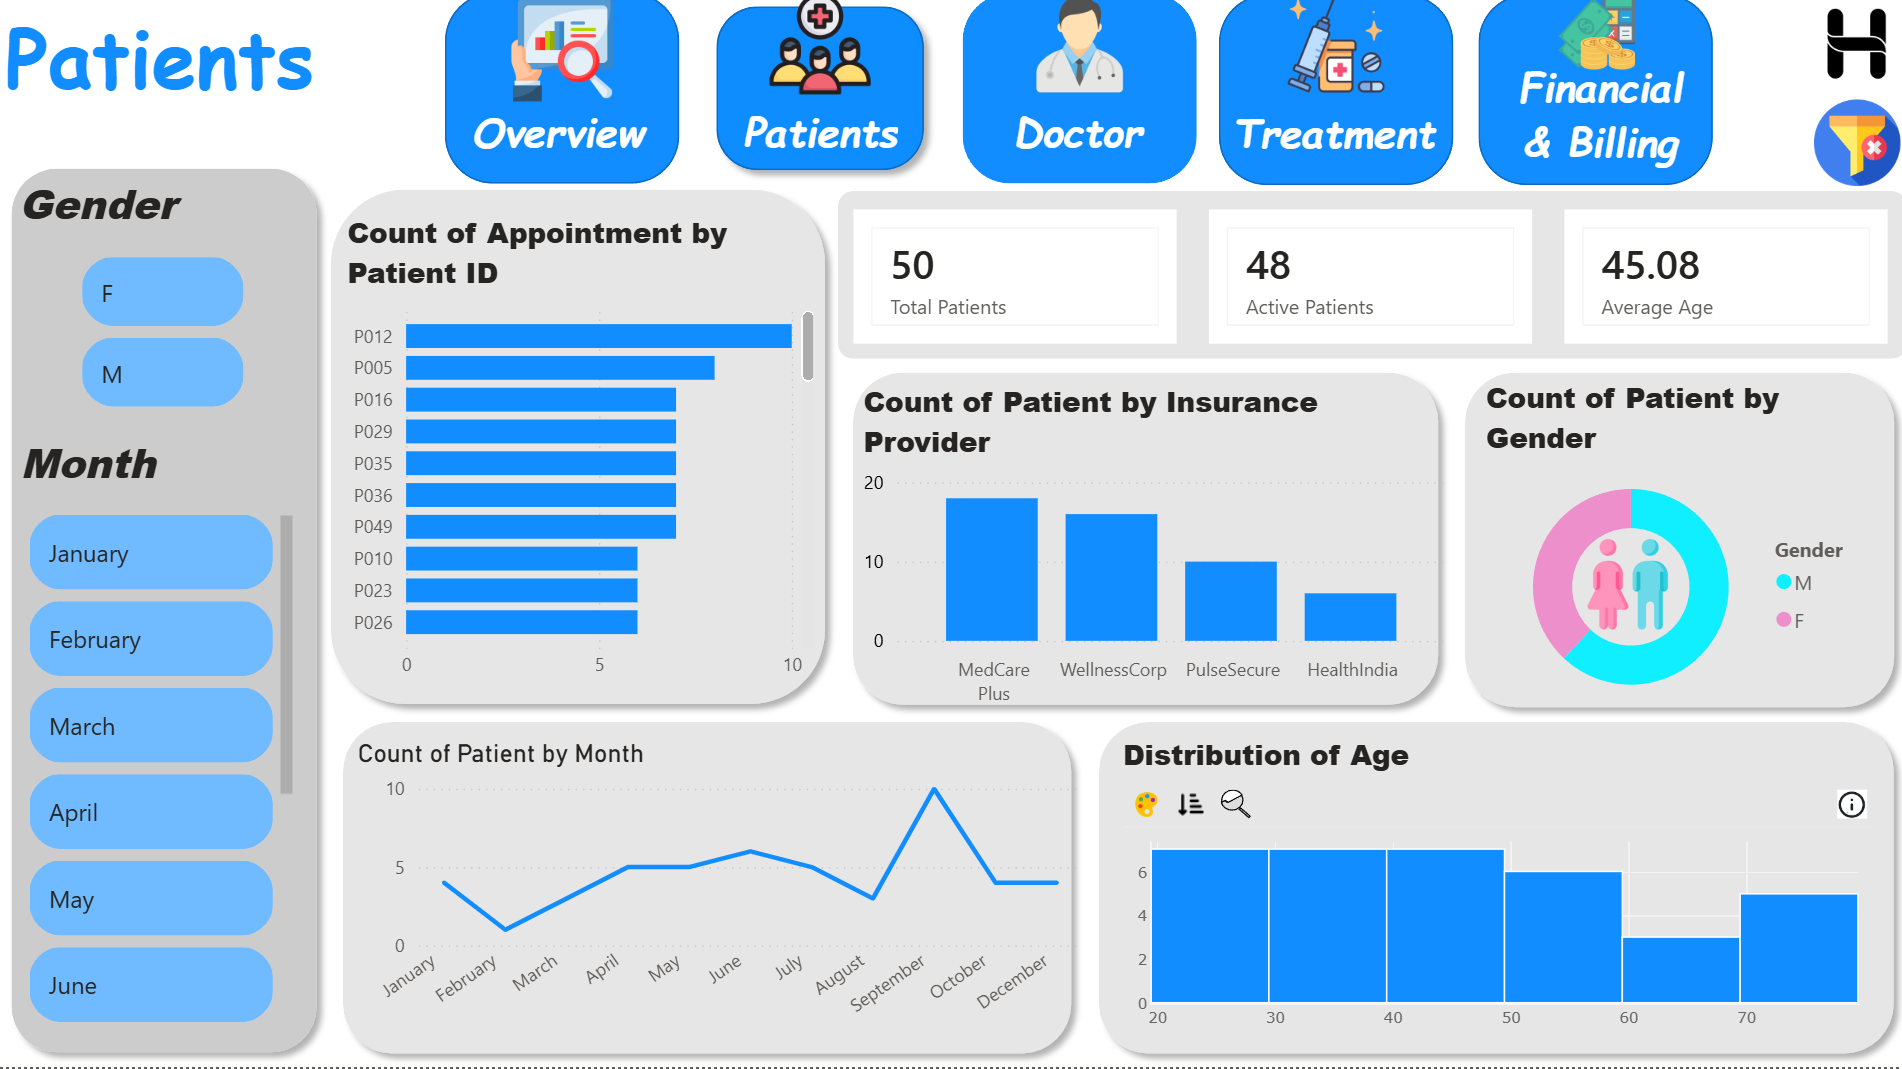

What the dashboard file says about the page in this screenshot:
{"tool":"powerbi","page":{"name":"Patients","canvas":[1280,720],"ordinal":2},"visuals":[{"type":"textbox","box":[0,0,222.7,87.9],"z":0},{"type":"group","id":"g1","title":"Group 1","box":[472.9,0,157.3,127.8],"z":1000},{"type":"shape","box":[299.7,0,157.1,127.8],"z":2000,"group":"g2"},{"type":"shape","box":[472.9,0,157.1,127.8],"z":2000,"group":"g1"},{"type":"shape","box":[646.7,0,157.1,127.8],"z":2000,"group":"g3"},{"type":"shape","box":[818.5,1,157.1,127.8],"z":2000,"group":"g4"},{"type":"shape","box":[992.9,1.1,157.1,127.8],"z":2000,"group":"g5"},{"type":"shape","box":[0,108.5,222.7,610.7],"z":2000},{"type":"image","box":[1039.1,-0.1,65.8,51.5],"z":3000,"group":"g5"},{"type":"image","box":[504.5,0,94.9,68],"z":3000,"group":"g1"},{"type":"image","box":[678.3,0,94.9,68],"z":3000,"group":"g3"},{"type":"image","box":[850.1,1,94.9,68],"z":3000,"group":"g4"},{"type":"image","box":[330.9,4,95.5,68.4],"z":3000,"group":"g2"},{"type":"advancedSlicerVisual","fields":{"Values":["Patient.Gender"]},"box":[51,171.8,118.6,110.9],"z":3000},{"type":"textbox","box":[997.4,38.4,155.6,85.5],"z":4000,"group":"g5"},{"type":"textbox","box":[495.2,68,113.7,49.2],"z":4000,"group":"g1"},{"type":"textbox","box":[313.1,68.4,133.8,49.3],"z":4000,"group":"g2"},{"type":"textbox","box":[675.9,68.4,106.6,49.3],"z":4000,"group":"g3"},{"type":"textbox","box":[822.8,69.1,155.4,50],"z":4000,"group":"g4"},{"type":"textbox","box":[9.4,116.7,131.3,55.1],"z":4000},{"type":"shape","box":[729.1,479.4,550.9,240.3],"z":5000},{"type":"histogram7D0E580F1FEB4DDA901A6D8146EA6387","title":"Distribution of Age","fields":{"col_2":["Patient.Age"]},"box":[749,497,513.4,211],"z":6000},{"type":"shape","box":[974.2,245.7,305.8,242.5],"z":7000},{"type":"donutChart","title":"Count of Patient by Gender","fields":{"Y":["Count(Patient.Patient_ID)"],"Category":["Patient.Gender"]},"box":[992.8,257.2,269.6,227.4],"z":8000},{"type":"image","box":[1053.8,366.2,77.4,61],"z":9000},{"type":"shape","box":[563.9,245.8,410.4,240.8],"z":10000},{"type":"shape","box":[222.7,479.4,506.4,240.3],"z":11000},{"type":"shape","box":[214.6,122.3,349.3,363],"z":12000},{"type":"columnChart","title":"Count of Patient by Insurance Provider","fields":{"Category":["Insurance.Insurance_Provider"],"Y":["CountNonNull(Patient.Patient_ID)"]},"box":[575.1,260.7,401.7,224.6],"z":13000},{"type":"barChart","title":"Count of Appointment by Patient ID","fields":{"Y":["CountNonNull(Appointment.Appointment_ID)"],"Category":["Patient.Patient_ID"]},"box":[229.5,146.6,322.5,321.3],"z":14000},{"type":"lineChart","title":"Count of Patient by Month","fields":{"Category":["Patient.Registeration_Date.Variation.Date Hierarchy.Month"],"Y":["CountNonNull(Patient.Patient_ID)"]},"box":[235.9,499.8,494.7,201.4],"z":15000},{"type":"shape","box":[563.5,133.2,716.5,112.5],"z":16000},{"type":"cardVisual","fields":{"Data":["MeasuresTable.Total Patients"]},"box":[567.9,139.6,227.2,100.5],"z":17000},{"type":"cardVisual","fields":{"Data":["MeasuresTable.Active Patients"]},"box":[806.6,139.6,227.2,100.5],"z":18000},{"type":"cardVisual","fields":{"Data":["MeasuresTable.Average Age"]},"box":[1045.2,139.6,227.2,100.5],"z":19000},{"type":"textbox","box":[9.8,290.8,131.1,54.6],"z":20000},{"type":"advancedSlicerVisual","fields":{"Values":["DateTable.Month Name"]},"box":[16.4,345.4,186.8,354.9],"z":21000},{"type":"group","id":"g2","title":"Group 1","box":[299.7,0,157.1,127.8],"z":22000},{"type":"group","id":"g3","title":"Group 1","box":[646.7,0,157.1,127.8],"z":23000},{"type":"group","id":"g4","title":"Group 1","box":[818.5,1,159.6,127.8],"z":24000},{"type":"image","box":[1213.2,0,66.8,67.9],"z":25000},{"type":"group","id":"g5","title":"Group 1","box":[992.9,-0.1,160.1,129],"z":26000},{"type":"image","box":[1213.2,71.2,66.8,58.1],"z":27000}]}

Visuals, with their boxes in screenshot pixels (x1, y1, x2, y2), scaled from the page's 1280x720 canvas onto the 1902x1069 screenshot:
textbox: 0 0 331 131
"Group 1" group: 703 0 936 190
shape: 445 0 679 190
shape: 703 0 936 190
shape: 961 0 1194 190
shape: 1216 1 1450 191
shape: 1475 2 1709 191
shape: 0 161 331 1068
image: 1544 0 1642 76
image: 750 0 891 101
image: 1008 0 1149 101
image: 1263 1 1404 102
image: 492 6 634 107
advancedSlicerVisual - Patient.Gender: 76 255 252 420
textbox: 1482 57 1713 184
textbox: 736 101 905 174
textbox: 465 102 664 175
textbox: 1004 102 1163 175
textbox: 1223 103 1454 177
textbox: 14 173 209 255
shape: 1083 712 1901 1068
"Distribution of Age" histogram7D0E580F1FEB4DDA901A6D8146EA6387: 1113 738 1876 1051
shape: 1448 365 1901 725
"Count of Patient by Gender" donutChart: 1475 382 1876 719
image: 1566 544 1681 634
shape: 838 365 1448 722
shape: 331 712 1083 1068
shape: 319 182 838 721
"Count of Patient by Insurance Provider" columnChart: 855 387 1451 721
"Count of Appointment by Patient ID" barChart: 341 218 820 695
"Count of Patient by Month" lineChart: 351 742 1086 1041
shape: 837 198 1901 365
cardVisual - MeasuresTable.Total Patients: 844 207 1181 356
cardVisual - MeasuresTable.Active Patients: 1199 207 1536 356
cardVisual - MeasuresTable.Average Age: 1553 207 1891 356
textbox: 15 432 209 513
advancedSlicerVisual - DateTable.Month Name: 24 513 302 1040
"Group 1" group: 445 0 679 190
"Group 1" group: 961 0 1194 190
"Group 1" group: 1216 1 1453 191
image: 1803 0 1901 101
"Group 1" group: 1475 0 1713 191
image: 1803 106 1901 192
